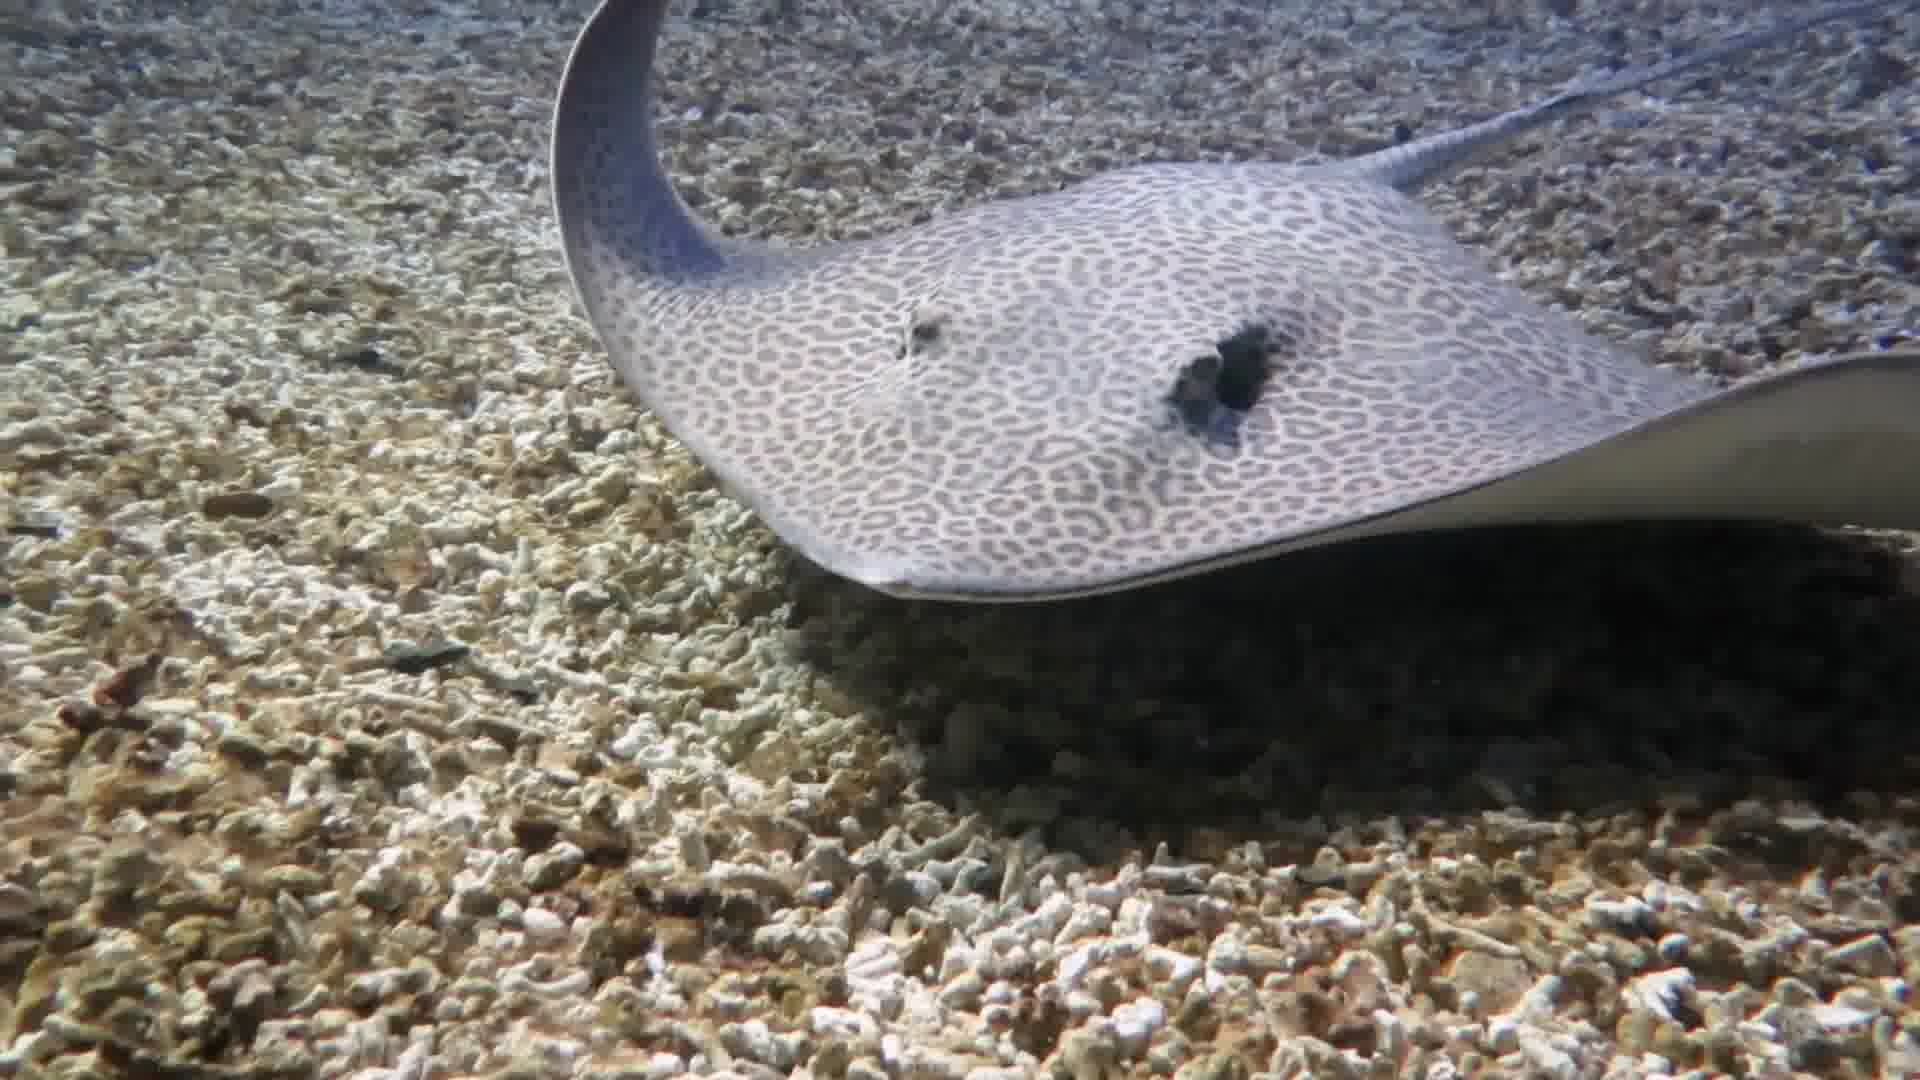Himantura uarnak: (539, 1, 1916, 661)
